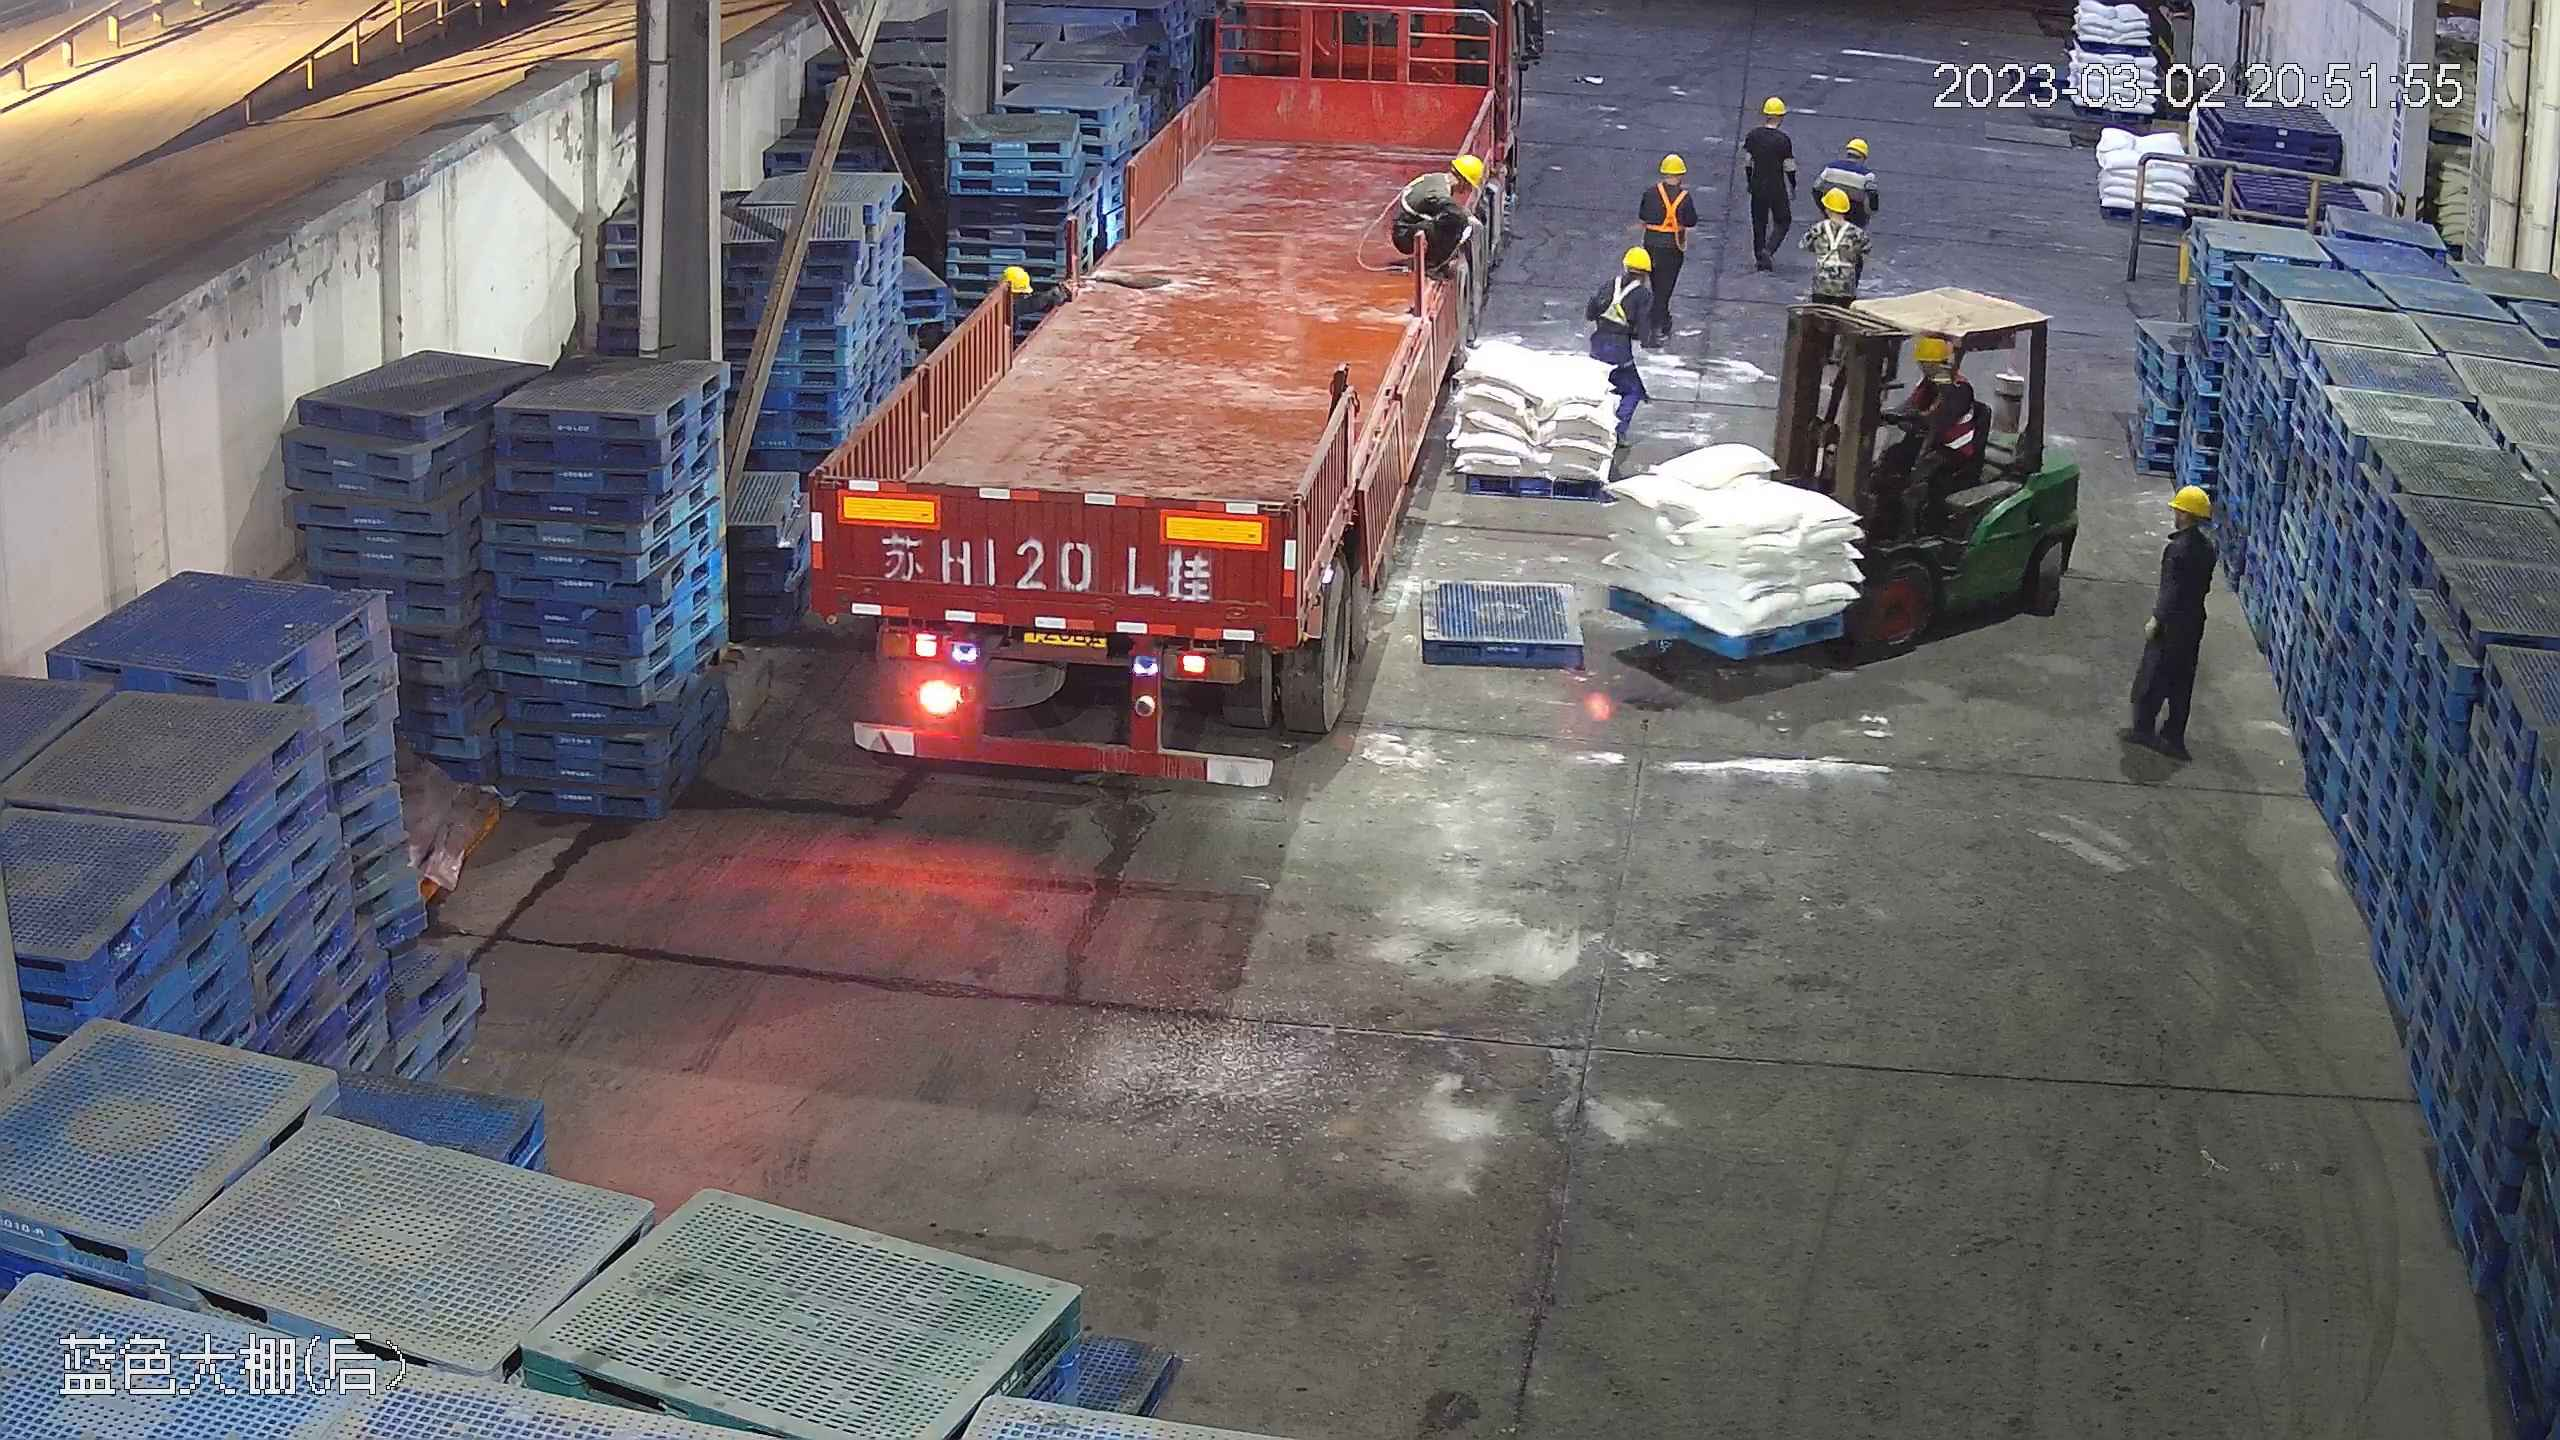belt: (1390, 169, 1458, 223), (1597, 268, 1644, 328), (1652, 172, 1693, 241), (1812, 216, 1852, 272)
head: (1899, 336, 1975, 417), (1410, 153, 1489, 219), (2157, 483, 2217, 570), (1595, 245, 1658, 319), (1644, 154, 1700, 212), (1810, 184, 1857, 246), (1746, 96, 1795, 150), (1836, 135, 1878, 185)
helmet: (1812, 182, 1861, 242), (2170, 484, 2211, 514), (996, 262, 1032, 290), (1455, 152, 1485, 184), (1911, 335, 1951, 361), (1622, 245, 1653, 271), (1821, 184, 1849, 211), (1658, 154, 1687, 175), (1759, 96, 1785, 116), (1846, 134, 1871, 153)
people: (2115, 471, 2219, 763), (1870, 336, 1980, 533), (1588, 239, 1662, 482), (1386, 153, 1486, 288), (1642, 152, 1706, 347), (1742, 92, 1799, 266), (1805, 183, 1864, 330)
truck: (805, 8, 1521, 784)
